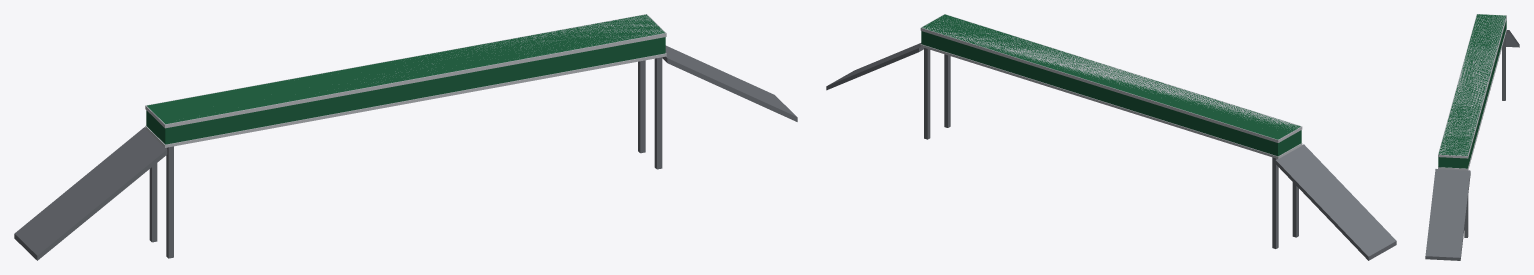
The model's file is footbridge_00185.glb.
3 views of the same model, side by side, from view 1: azimuth 30°, elevation 25°; view 2: azimuth 150°, elevation 25°; view 3: azimuth 270°, elevation 25° (orthographic). The views are drawn at different scales.
Visible parts, largest first — view 1: chunk_0_0; view 2: chunk_0_0; view 3: chunk_0_0.
Boxes of the visible parts, x1,y1,x2,y2 form: chunk_0_0: (14, 14, 797, 260); chunk_0_0: (826, 14, 1396, 260); chunk_0_0: (1425, 14, 1519, 260).
Bounding box in the file's own units: 51.75 × 9.3 × 9.56.
